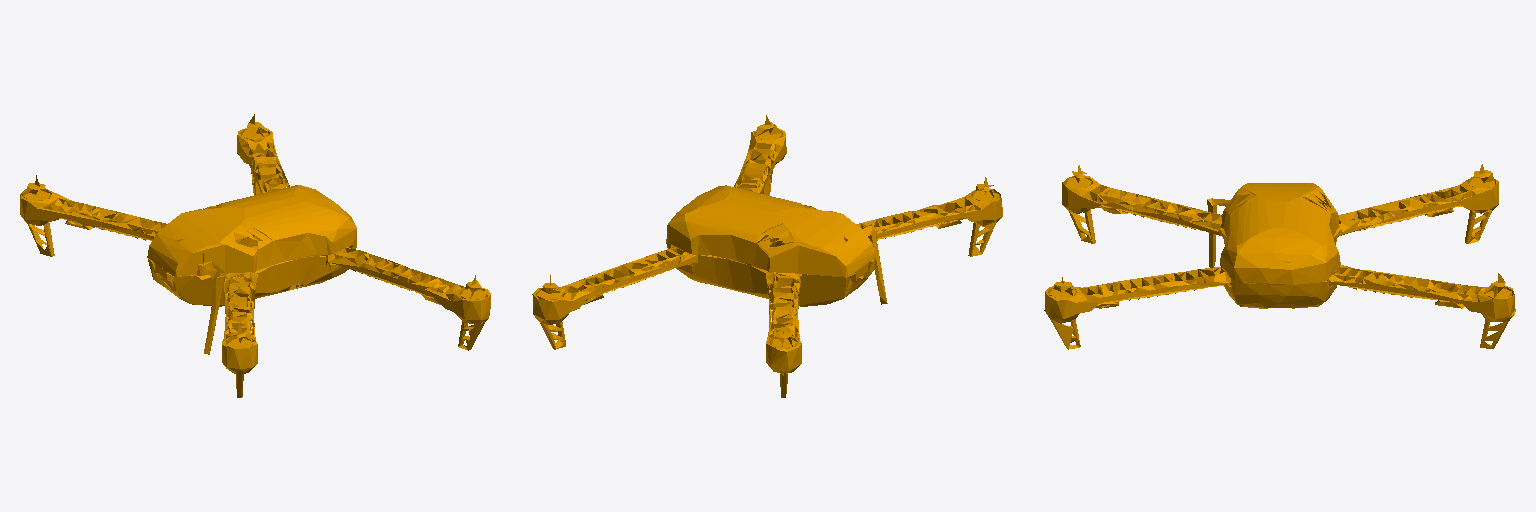
The robot description file, URDF, robot "iris":
<?xml version="1.0" ?>
<robot name="iris">
  <joint name="iris__/imu_joint" type="fixed">
    <parent link="iris__base_link"/>
    <child link="iris__/imu_link"/>
    <origin rpy="0  0  0" xyz="0  0  0"/>
    <axis xyz="1  0  0"/>
    <limit effort="0.0" lower="0.0" upper="0.0" velocity="0.0"/>
  </joint>
  <joint name="iris__rotor_0_joint" type="fixed">
    <parent link="iris__base_link"/>
    <child link="iris__rotor_0"/>
    <origin rpy="0  0  0" xyz="0.13  -0.22   0.023"/>
    <axis xyz="0  0  1"/>
    <limit effort="0.0" lower="-1e+16" upper="1e+16" velocity="0.0"/>
  </joint>
  <joint name="iris__rotor_1_joint" type="fixed">
    <parent link="iris__base_link"/>
    <child link="iris__rotor_1"/>
    <origin rpy="0  0  0" xyz="-0.13   0.2    0.023"/>
    <axis xyz="0  0  1"/>
    <limit effort="0.0" lower="-1e+16" upper="1e+16" velocity="0.0"/>
  </joint>
  <joint name="iris__rotor_2_joint" type="fixed">
    <parent link="iris__base_link"/>
    <child link="iris__rotor_2"/>
    <origin rpy="0  0  0" xyz="0.13   0.22   0.023"/>
    <axis xyz="0  0  1"/>
    <limit effort="0.0" lower="-1e+16" upper="1e+16" velocity="0.0"/>
  </joint>
  <joint name="iris__rotor_3_joint" type="fixed">
    <parent link="iris__base_link"/>
    <child link="iris__rotor_3"/>
    <origin rpy="0  0  0" xyz="-0.13  -0.2    0.023"/>
    <axis xyz="0  0  1"/>
    <limit effort="0.0" lower="-1e+16" upper="1e+16" velocity="0.0"/>
  </joint>
  <link name="iris__base_link">
    <inertial>
      <mass value="1.5"/>
      <origin rpy="0  0  0" xyz="0  0  0"/>
      <inertia ixx="0.029125" ixy="0" ixz="0" iyy="0.029125" iyz="0" izz="0.055225"/>
    </inertial>
    <collision name="iris__base_link_inertia_collision">
      <origin rpy="0  0  0" xyz="0  0  0"/>
      <geometry>
        <box size="0.47 0.47 0.11"/>
      </geometry>
    </collision>
    <visual name="iris__base_link_inertia_visual">
      <origin rpy="0  0  0" xyz="0  0  0"/>
      <geometry>
        <mesh filename="package://iris_description/meshes/iris.stl" scale="1 1 1"/>
      </geometry>
    </visual>
  </link>
  <link name="iris__/imu_link">
    <inertial>
      <mass value="0.015"/>
      <origin rpy="0  0  0" xyz="0  0  0"/>
      <inertia ixx="1e-05" ixy="0" ixz="0" iyy="1e-05" iyz="0" izz="1e-05"/>
    </inertial>
  </link>
  <link name="iris__rotor_0">
    <inertial>
      <mass value="0.005"/>
      <origin rpy="0  0  0" xyz="0  0  0"/>
      <inertia ixx="9.75e-07" ixy="0" ixz="0" iyy="0.000273104" iyz="0" izz="0.000274004"/>
    </inertial>
    <collision name="iris__rotor_0_collision">
      <origin rpy="0  0  0" xyz="0  0  0"/>
      <geometry>
        <cylinder length="0.005" radius="0.128"/>
      </geometry>
    </collision>
    <visual name="iris__rotor_0_visual">
      <origin rpy="0  0  0" xyz="0  0  0"/>
      <geometry>
        <mesh filename="package://iris_description/meshes/iris_prop_ccw.dae" scale="1 1 1"/>
      </geometry>
    </visual>
  </link>
  <link name="iris__rotor_1">
    <inertial>
      <mass value="0.005"/>
      <origin rpy="0  0  0" xyz="0 0 0"/>
      <inertia ixx="9.75e-07" ixy="0" ixz="0" iyy="0.000273104" iyz="0" izz="0.000274004"/>
    </inertial>
    <collision name="iris__rotor_1_collision">
      <origin rpy="0  0  0" xyz="0  0  0"/>
      <geometry>
        <cylinder length="0.005" radius="0.128"/>
      </geometry>
    </collision>
    <visual name="iris__rotor_1_visual">
      <origin rpy="0  0  0" xyz="0  0  0"/>
      <geometry>
        <mesh filename="package://iris_description/meshes/iris_prop_ccw.dae" scale="1 1 1"/>
      </geometry>
    </visual>
  </link>
  <link name="iris__rotor_2">
    <inertial>
      <mass value="0.005"/>
      <origin rpy="0  0  0" xyz="0  0  0"/>
      <inertia ixx="9.75e-07" ixy="0" ixz="0" iyy="0.000273104" iyz="0" izz="0.000274004"/>
    </inertial>
    <collision name="iris__rotor_2_collision">
      <origin rpy="0  0  0" xyz="0  0  0"/>
      <geometry>
        <cylinder length="0.005" radius="0.128"/>
      </geometry>
    </collision>
    <visual name="iris__rotor_2_visual">
      <origin rpy="0  0  0" xyz="0  0  0"/>
      <geometry>
        <mesh filename="package://iris_description/meshes/iris_prop_cw.dae" scale="1 1 1"/>
      </geometry>
    </visual>
  </link>
  <link name="iris__rotor_3">
    <inertial>
      <mass value="0.005"/>
      <origin rpy="0  0  0" xyz="0  0  0"/>
      <inertia ixx="9.75e-07" ixy="0" ixz="0" iyy="0.000273104" iyz="0" izz="0.000274004"/>
    </inertial>
    <collision name="iris__rotor_3_collision">
      <origin rpy="0  0  0" xyz="0  0  0"/>
      <geometry>
        <cylinder length="0.005" radius="0.128"/>
      </geometry>
    </collision>
    <visual name="iris__rotor_3_visual">
      <origin rpy="0  0  0" xyz="0  0  0"/>
      <geometry>
        <mesh filename="package://iris_description/meshes/iris_prop_cw.dae" scale="1 1 1"/>
      </geometry>
    </visual>
  </link>
</robot>

--- Facts derived from the render (not from the file) ---
The picture shows the robot from 3 angles, left to right: view 1: azimuth 30°, elevation 25°; view 2: azimuth 150°, elevation 25°; view 3: azimuth 270°, elevation 25°; orthographic projection.
Robot: iris — 6 links, 5 joints (5 fixed); root link iris__base_link; default pose: every joint at zero.
Visible links, largest first — view 1: iris__base_link; view 2: iris__base_link; view 3: iris__base_link.
Link boxes in pixels (<box>): iris__base_link: <box>20,114,490,397</box>; iris__base_link: <box>532,115,1002,397</box>; iris__base_link: <box>1044,164,1515,349</box>.
Size in the robot's own frame: 0.3005 by 0.4776 by 0.114 metres.
Meshes: 3 distinct files referenced, 1 mesh visuals loaded (1 binary STL); not drawn: 4 (reference not matched to a file when rendering).